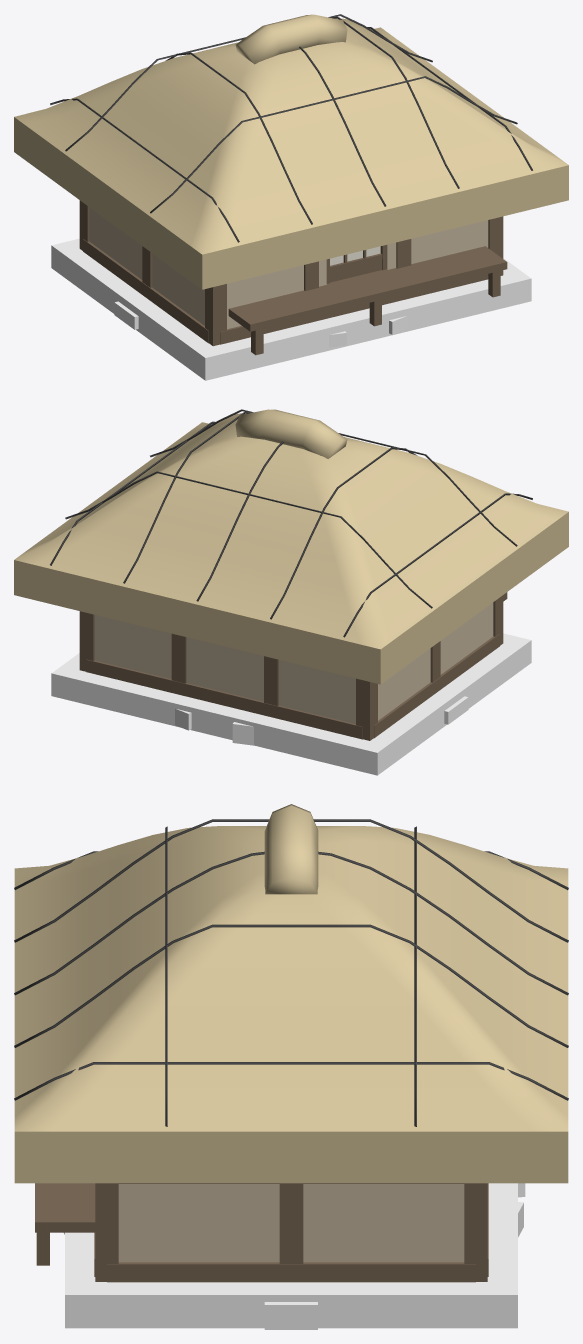
Rendered from v_house.glb.
3 renders of one model, top to bottom at view 1: azimuth 30°, elevation 25°; view 2: azimuth 150°, elevation 25°; view 3: azimuth 270°, elevation 25°, orthographic. The views are drawn at different scales.
Parts seen in each view (by area): view 1: v_house_straw, v_house_bark, v_house_plinth, v_house_mud, v_house_iron, v_house_granite; view 2: v_house_straw, v_house_plinth, v_house_mud, v_house_bark, v_house_iron, v_house_granite; view 3: v_house_straw, v_house_mud, v_house_plinth, v_house_bark, v_house_iron, v_house_granite.
Boxes of the visible parts, x1,y1,x2,y2 form: v_house_straw: [14, 14, 568, 289]; v_house_bark: [79, 200, 507, 355]; v_house_plinth: [51, 238, 531, 380]; v_house_mud: [89, 207, 488, 329]; v_house_iron: [50, 14, 532, 242]; v_house_granite: [114, 301, 407, 347]; v_house_straw: [14, 409, 568, 684]; v_house_plinth: [51, 633, 531, 775]; v_house_mud: [94, 602, 493, 723]; v_house_bark: [79, 592, 507, 740]; v_house_iron: [50, 409, 532, 637]; v_house_granite: [175, 696, 468, 745]; v_house_straw: [14, 804, 568, 1183]; v_house_mud: [118, 1184, 464, 1262]; v_house_plinth: [65, 1183, 517, 1328]; v_house_bark: [35, 1183, 488, 1282]; v_house_iron: [14, 819, 568, 1126]; v_house_granite: [64, 1183, 525, 1329].
Size of the model in its own units: 3.72 by 2.57 by 3.31.
